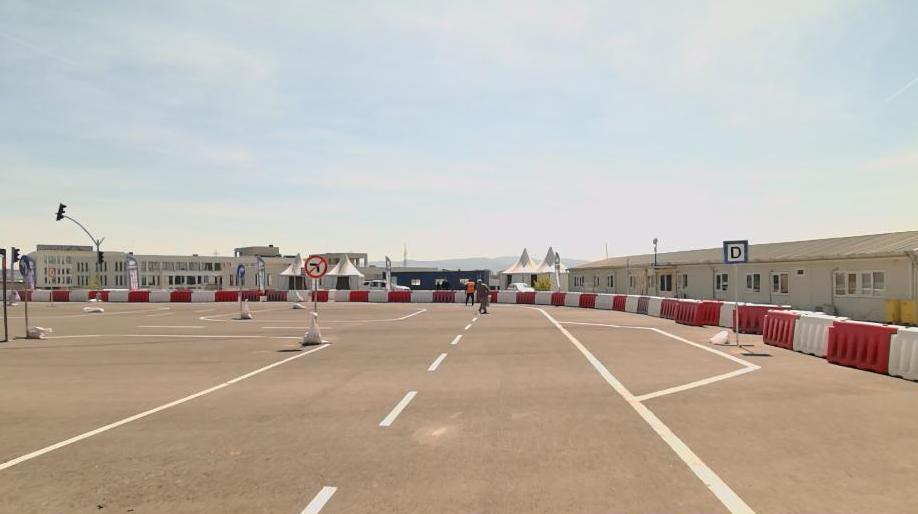nesne: (0, 306, 757, 512), (0, 309, 482, 514), (296, 311, 759, 514), (541, 308, 756, 513), (1, 342, 331, 469), (559, 318, 760, 402), (560, 320, 759, 400), (29, 315, 382, 336), (826, 318, 896, 372), (794, 312, 836, 356), (734, 302, 789, 333), (889, 324, 916, 380), (378, 390, 416, 425), (762, 309, 797, 347), (299, 485, 335, 513), (674, 299, 704, 324), (300, 312, 321, 343), (723, 240, 747, 264), (718, 301, 738, 327), (47, 335, 297, 337), (304, 255, 326, 277), (201, 317, 305, 321), (319, 318, 399, 323), (705, 300, 720, 326), (660, 298, 678, 319), (476, 279, 487, 313), (648, 297, 665, 317), (191, 289, 217, 301), (432, 289, 456, 302), (427, 353, 445, 370), (289, 289, 314, 301), (128, 289, 149, 303), (264, 288, 288, 300), (399, 309, 425, 320), (595, 293, 614, 308), (496, 289, 516, 303), (169, 289, 192, 301), (516, 289, 535, 303), (107, 289, 129, 301), (218, 289, 240, 301), (410, 289, 432, 301), (578, 292, 595, 307), (326, 289, 349, 300), (637, 295, 651, 313), (368, 288, 389, 300), (389, 289, 410, 301), (710, 330, 728, 344), (49, 289, 69, 301), (69, 289, 89, 301), (464, 277, 473, 303), (349, 289, 368, 301), (612, 295, 626, 311), (625, 295, 638, 312), (535, 291, 552, 304), (148, 290, 170, 300), (564, 291, 578, 306), (241, 289, 258, 301), (31, 290, 49, 301), (88, 290, 106, 301), (137, 325, 202, 328), (553, 290, 565, 306), (18, 256, 28, 275), (55, 202, 66, 219), (262, 326, 306, 329), (236, 265, 245, 278), (96, 250, 103, 265), (451, 334, 461, 342), (464, 322, 472, 330)
